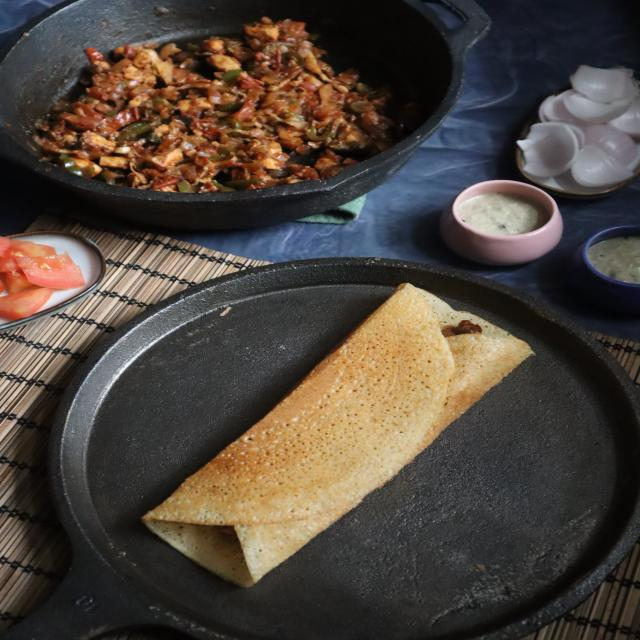DOSA: (141, 283, 531, 585)
